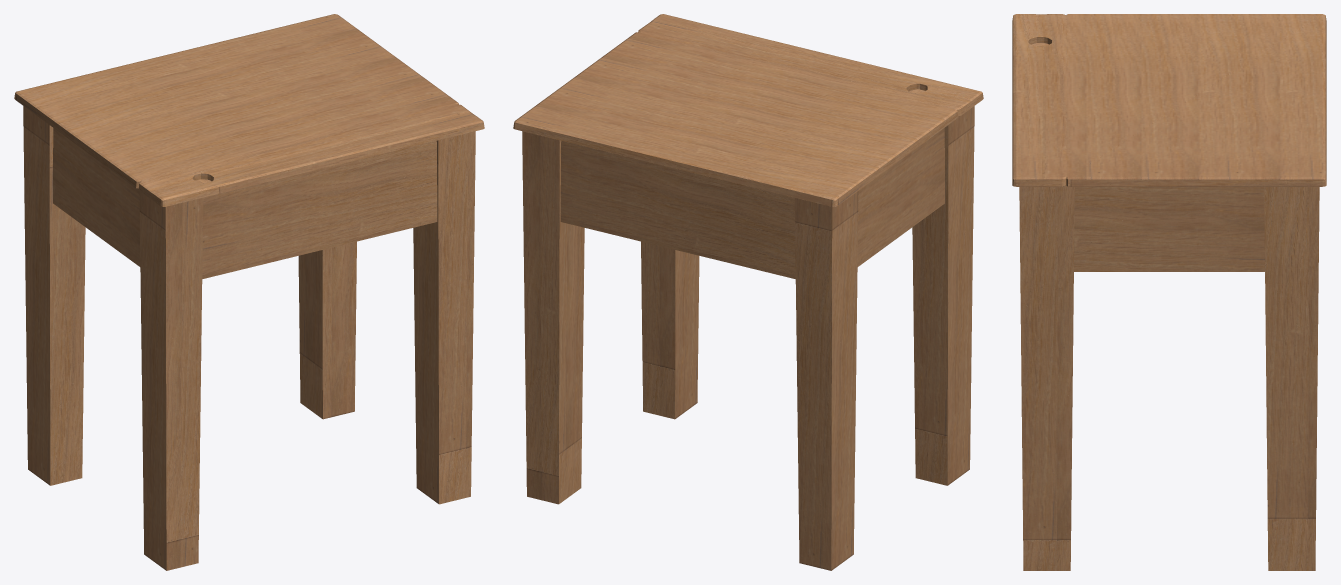
3 views of the same model, side by side, from view 1: azimuth 30°, elevation 25°; view 2: azimuth 150°, elevation 25°; view 3: azimuth 270°, elevation 25° (orthographic). The views are drawn at different scales.
Parts seen in each view (by area): view 1: Desk Mk2; view 2: Desk Mk2; view 3: Desk Mk2.
Boxes of the visible parts, x1=… form: Desk Mk2: x1=14, y1=14, x2=484, y2=570; Desk Mk2: x1=513, y1=14, x2=983, y2=570; Desk Mk2: x1=1012, y1=14, x2=1326, y2=570.
Size of the model in its own units: 9172 by 10213 by 7333.
1 material, 1 textured.
